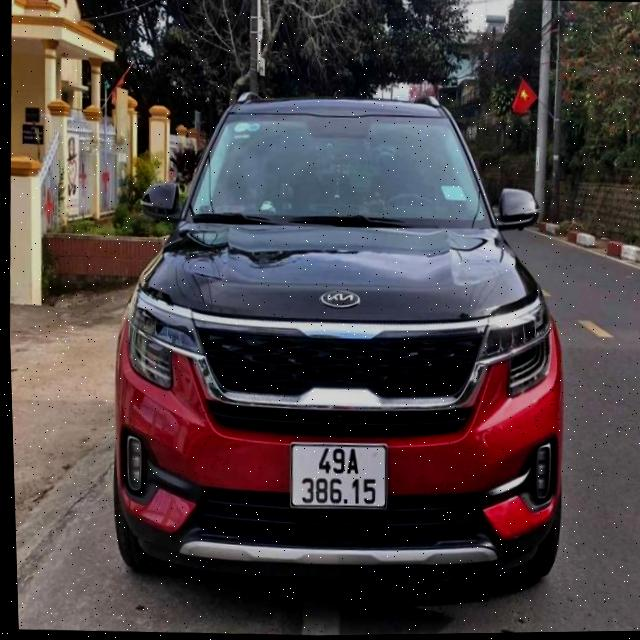car: (107, 75, 577, 603)
plate: (280, 433, 396, 514)
